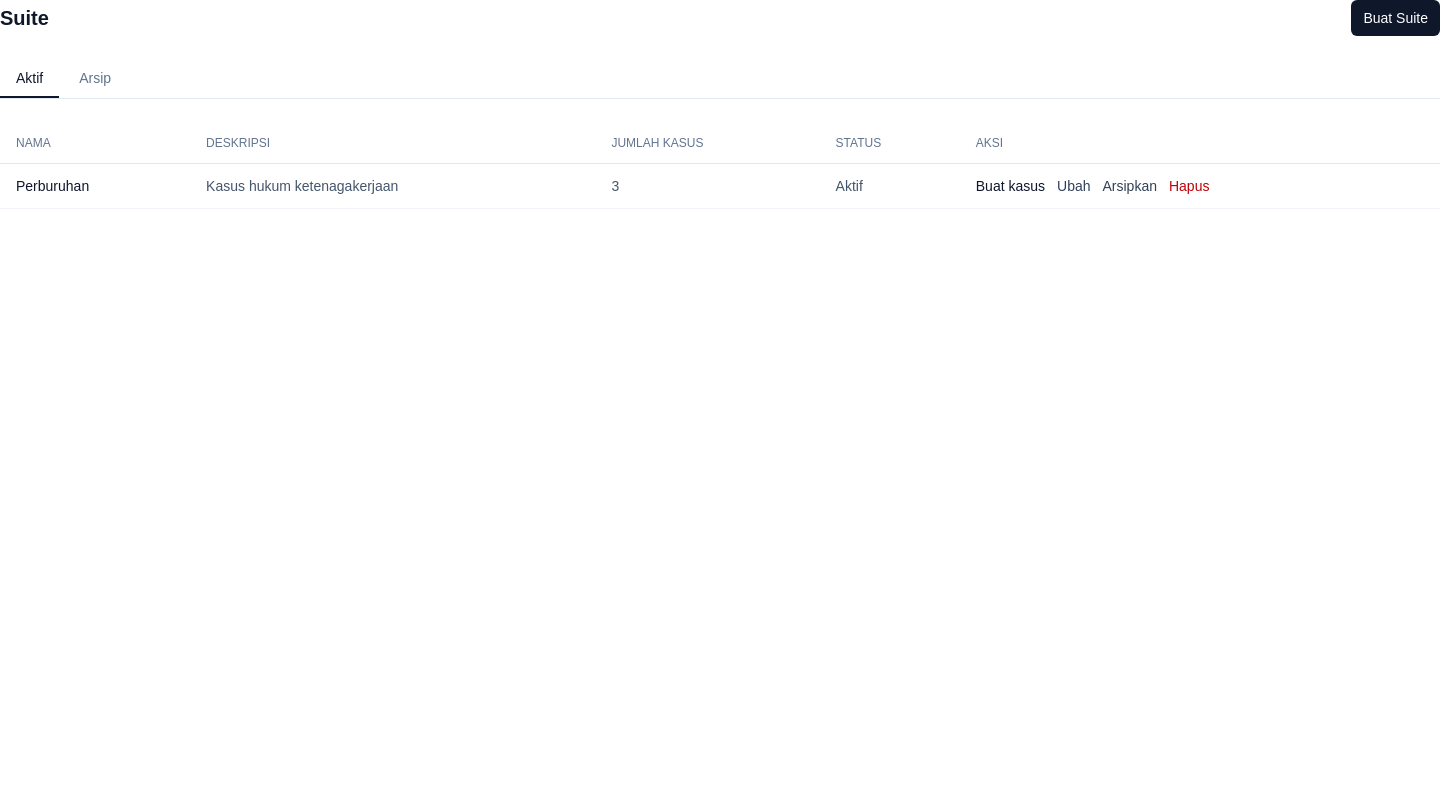
Test: SuitesPage › opens the delete dialog from a row
The width and height of the screenshot is (1440, 810).
Click the button with aria-label "Hapus Perburuhan" at (1189,186), box [1169, 176, 1210, 196]
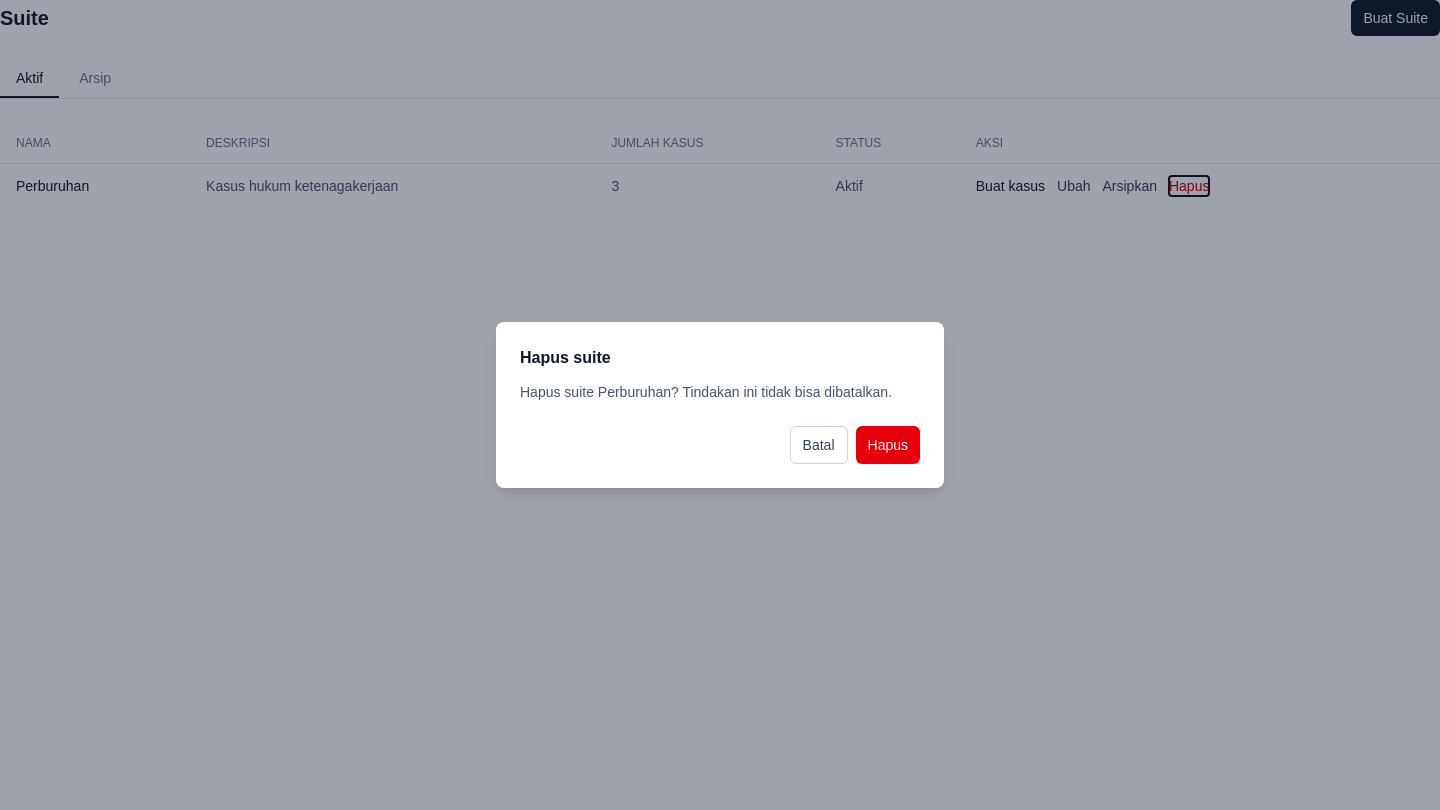
Check: the dialog "Hapus suite" is shown, box [496, 322, 944, 488]
